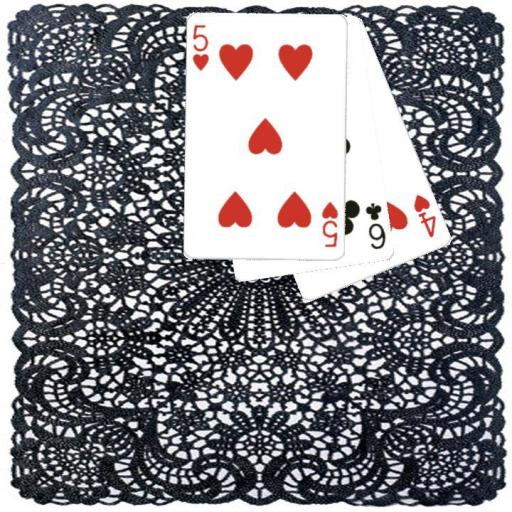4H: (410, 191, 439, 240)
5H: (319, 199, 340, 250), (190, 22, 211, 73)
6C: (362, 200, 388, 251)
